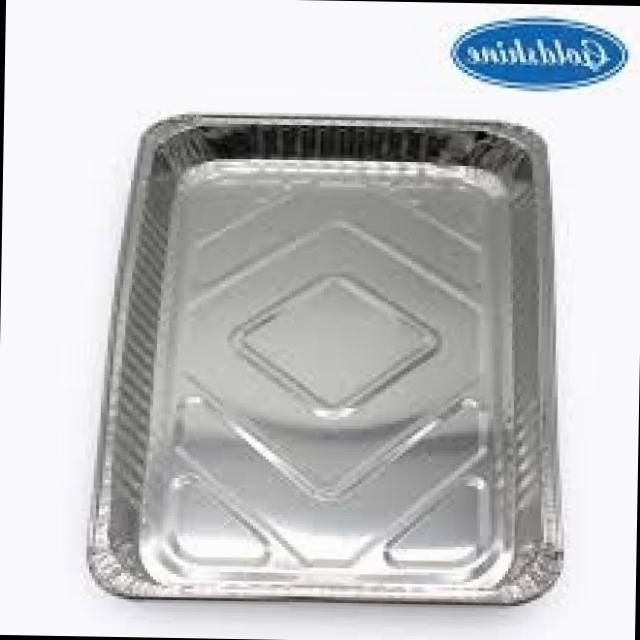kim_loai: (86, 114, 566, 608)
